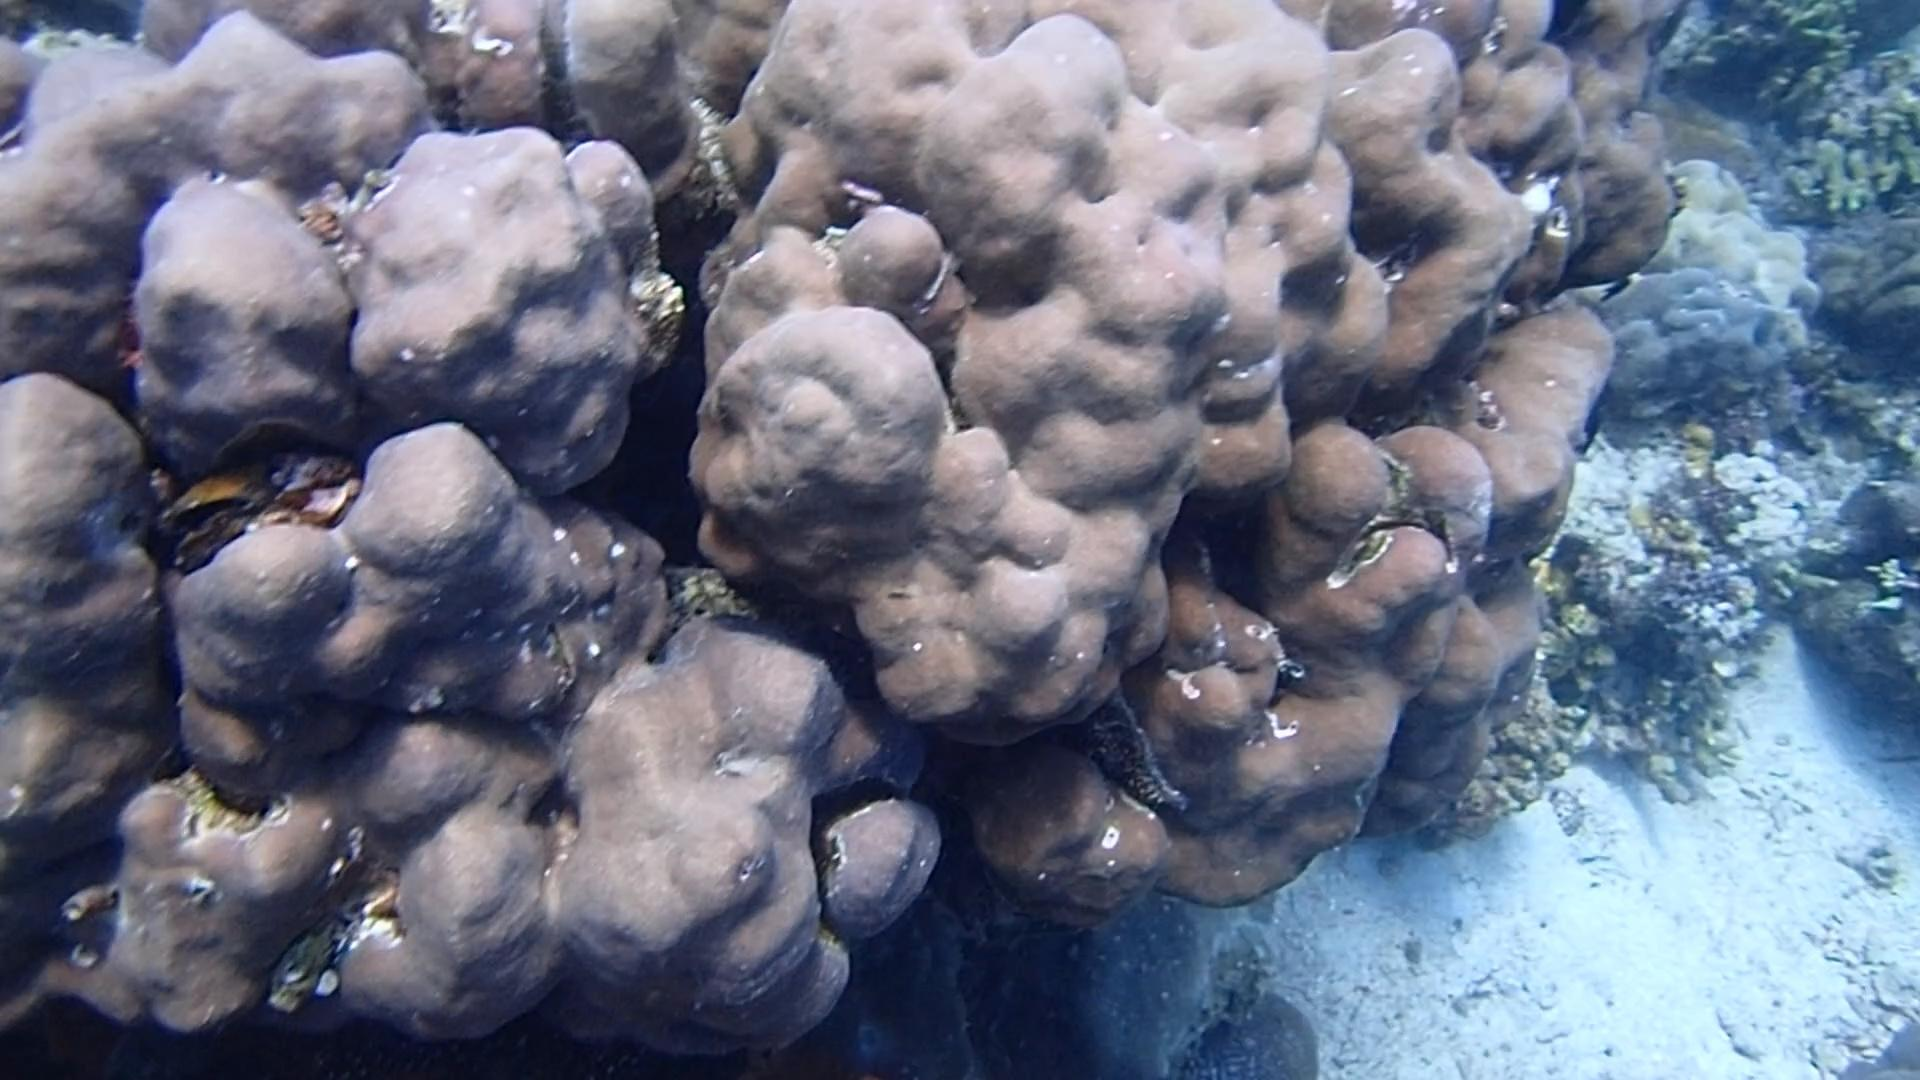Dark Fish: (1592, 270, 1633, 311)
